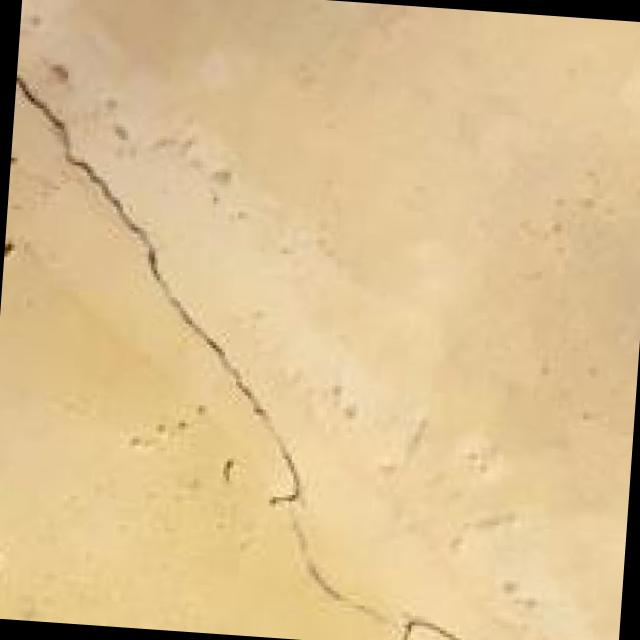crack: (0, 46, 360, 567)
